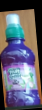blueberries: (1, 13, 41, 107)
